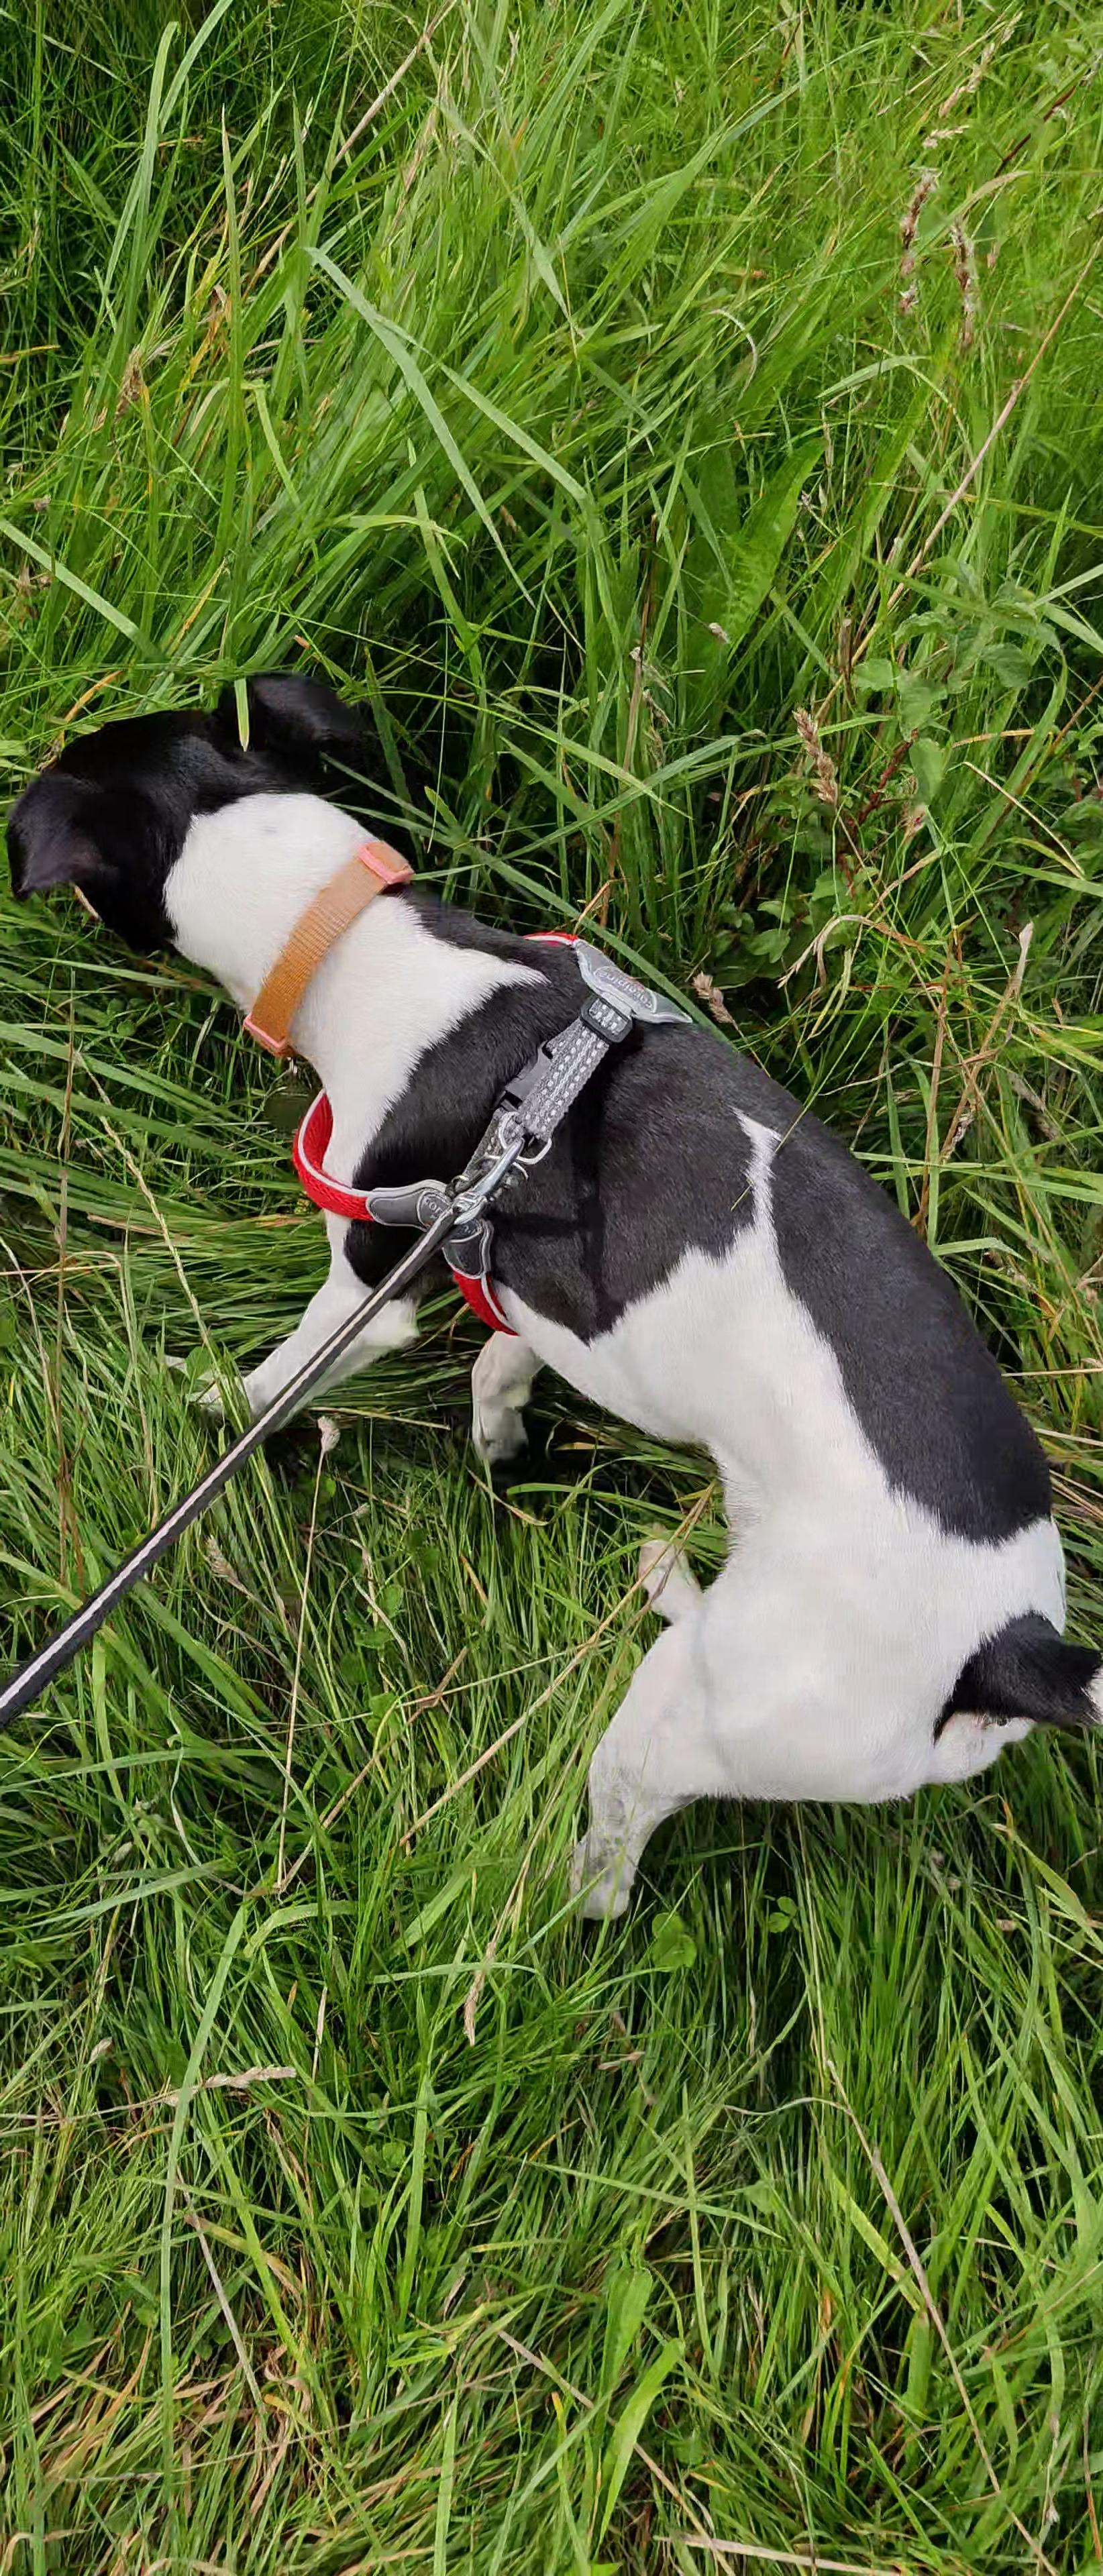Dog: (0, 636, 1103, 1965)
